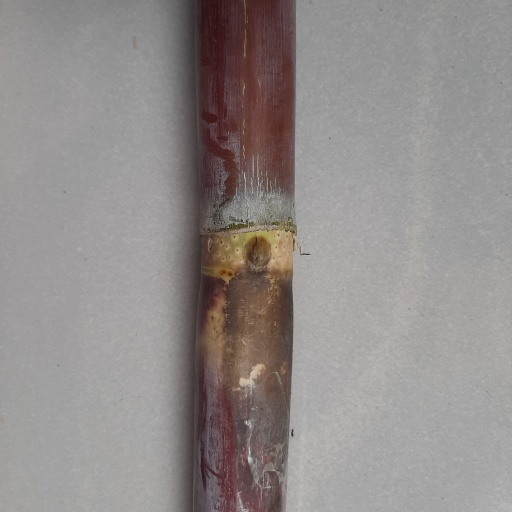Bud: (243, 235, 273, 270)
